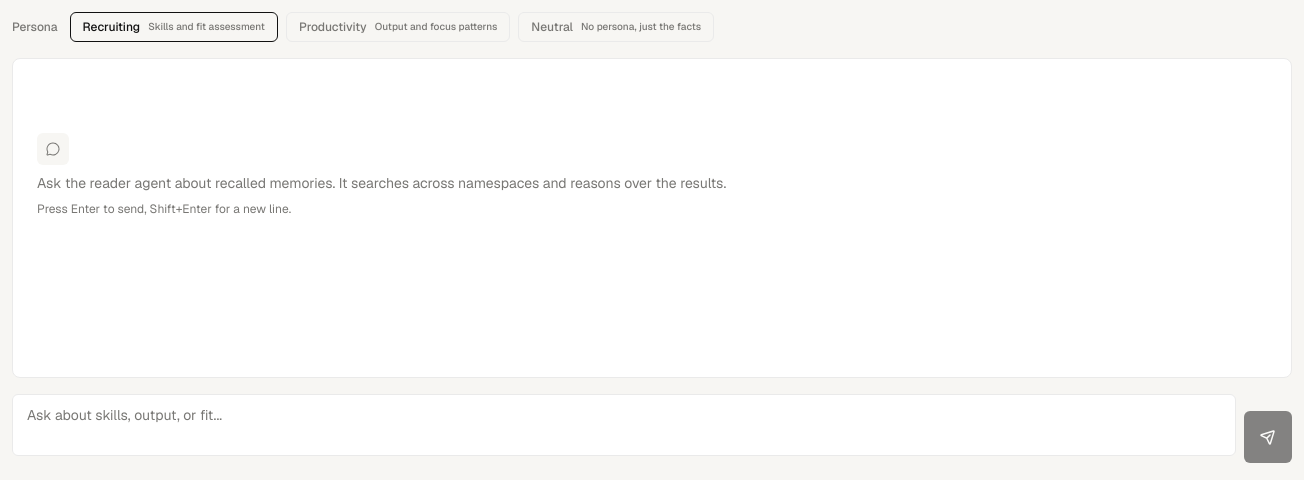
it: <ReaderChat /> › submits the running messages array and renders the reply
Type "Is this candidate a backend fit?" into the text box named "Message" at (624, 425), box [12, 394, 1236, 456]
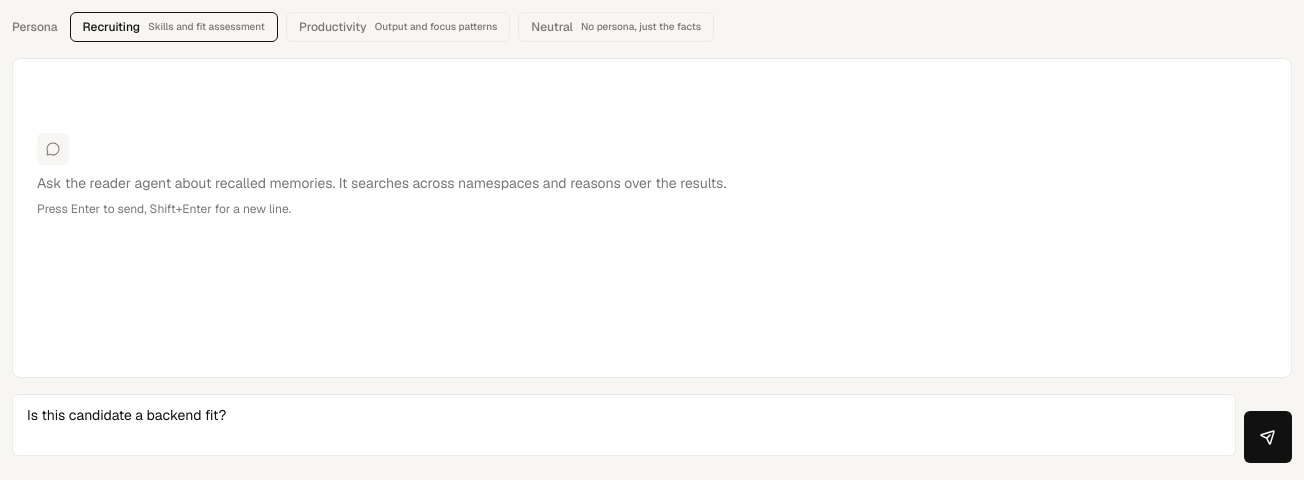
Submit the form named "Message", box [12, 394, 1292, 463]
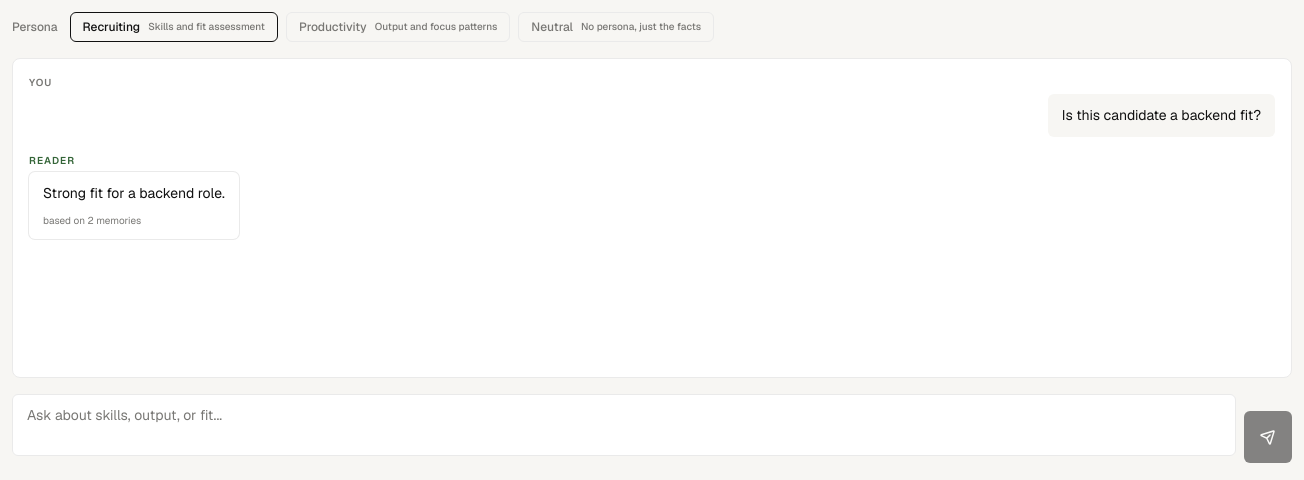
Check: the text "Is this candidate a backend fit?" is shown, box [1062, 104, 1261, 127]
Check: the text "Strong fit for a backend role." is shown, box [43, 182, 225, 205]
Check: the text "based on 2 memories" is shown, box [43, 214, 141, 226]
